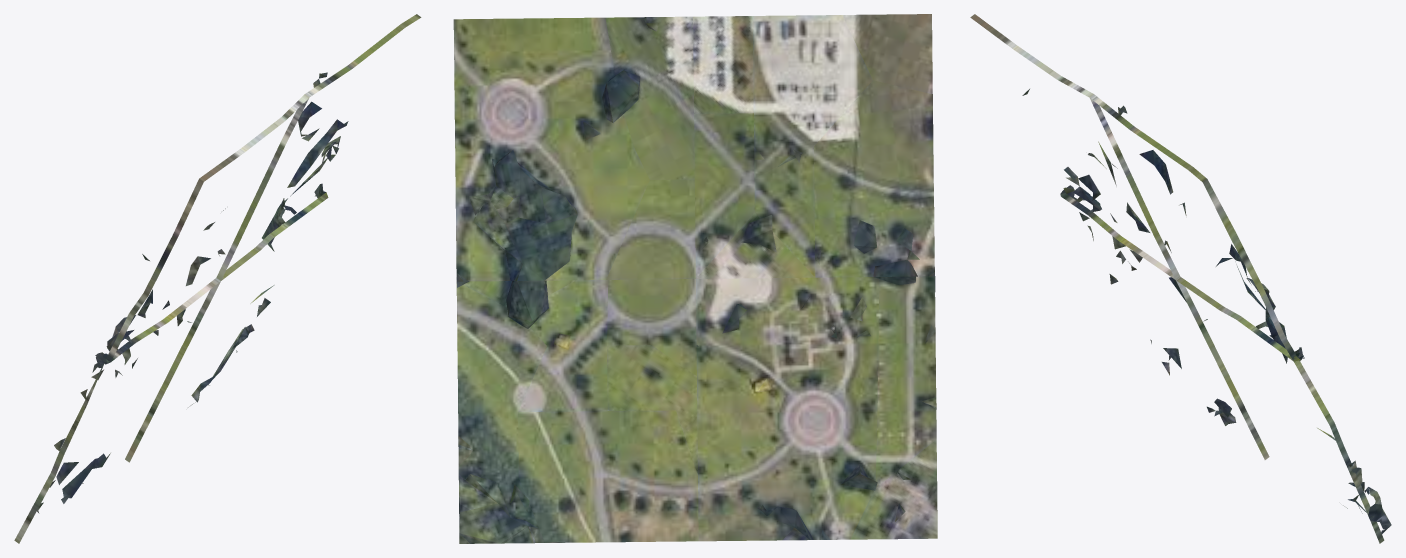
3 views of the same model, side by side, from view 1: azimuth 30°, elevation 25°; view 2: azimuth 150°, elevation 25°; view 3: azimuth 270°, elevation 25° (orthographic). The views are drawn at different scales.
Size of the model in its own units: 307 by 282 by 259.
1 material, 1 textured.
